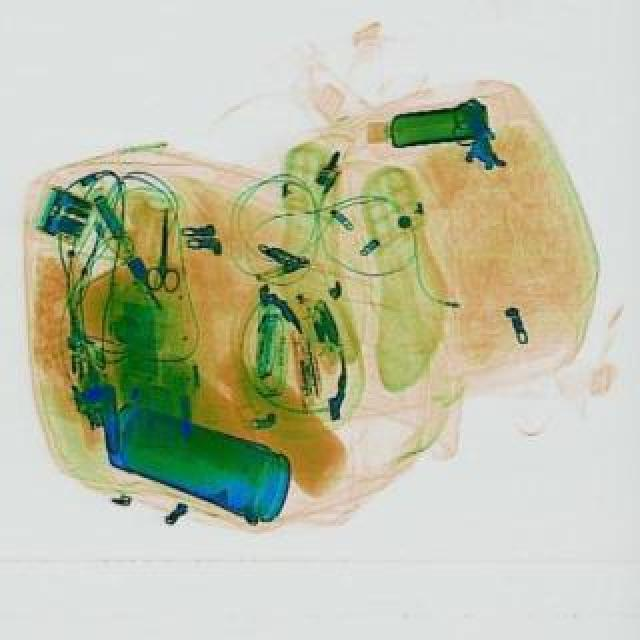pliers: (148, 216, 188, 298)
